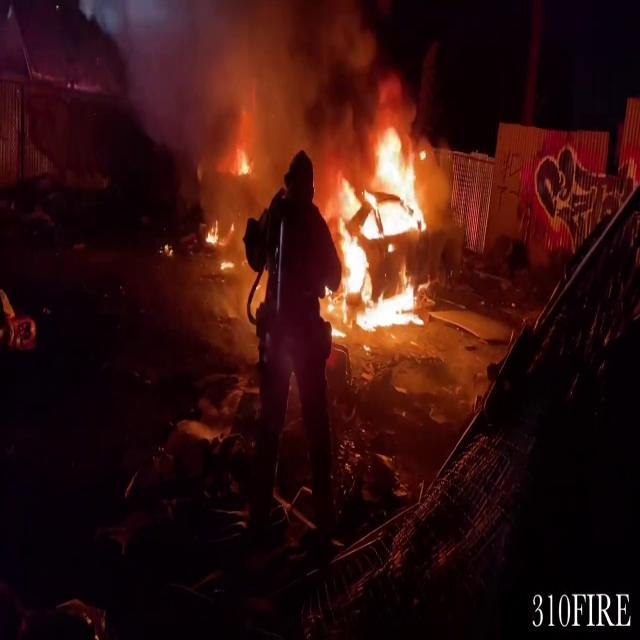Fire: (322, 120, 434, 332), (202, 211, 246, 271)
Smoke: (98, 0, 394, 160)
